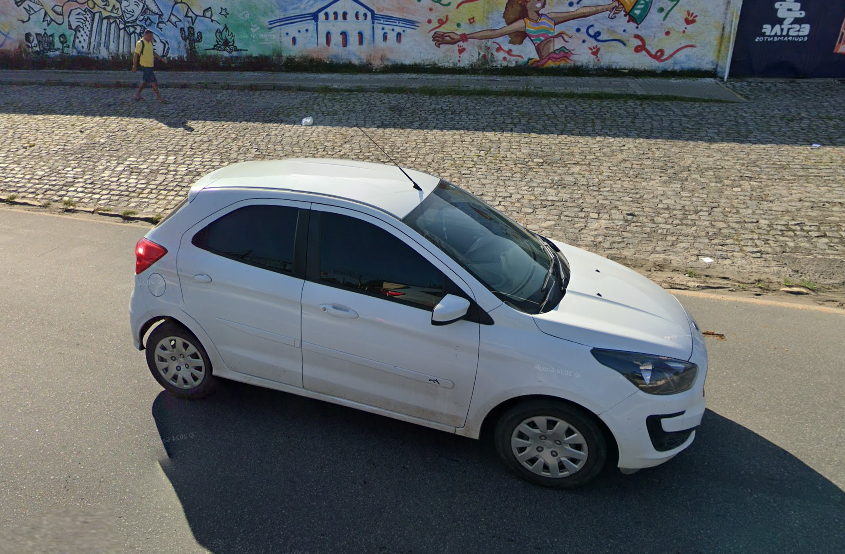car: (123, 125, 718, 498)
